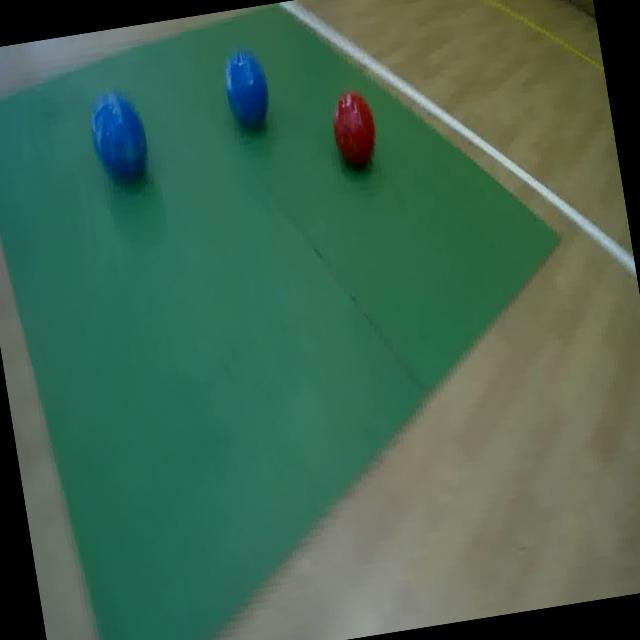blue_ball: (82, 76, 158, 198), (217, 36, 276, 134)
red_ball: (324, 82, 385, 175)
